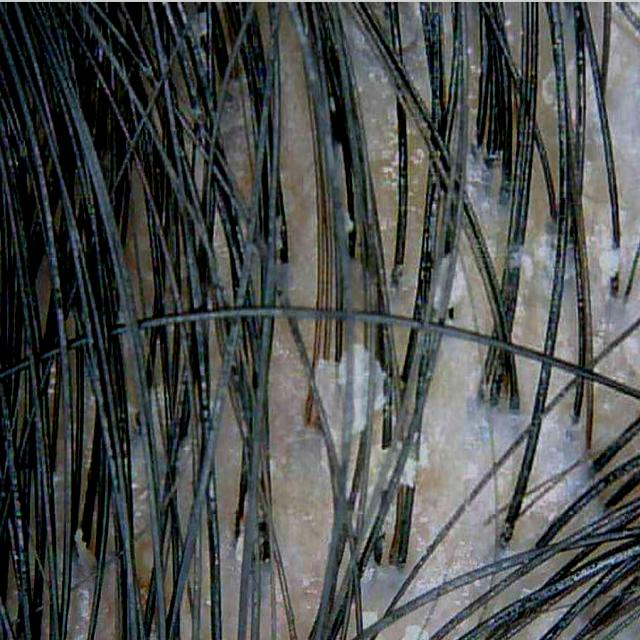d: (315, 357, 348, 446), (351, 342, 370, 434), (352, 343, 370, 434), (448, 265, 466, 322), (599, 245, 620, 280), (400, 457, 419, 488), (402, 625, 428, 640), (374, 364, 382, 410)
